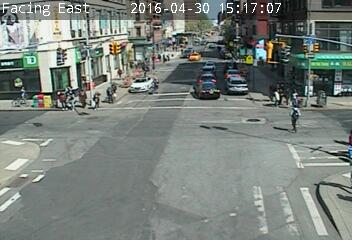neg: (12, 83, 31, 108), (263, 40, 279, 61), (317, 89, 331, 108), (234, 25, 242, 35)
pos: (285, 102, 307, 132), (89, 91, 103, 110), (270, 87, 284, 105), (77, 89, 90, 107), (103, 88, 113, 102), (289, 89, 299, 102), (110, 81, 119, 93), (117, 66, 125, 77)
